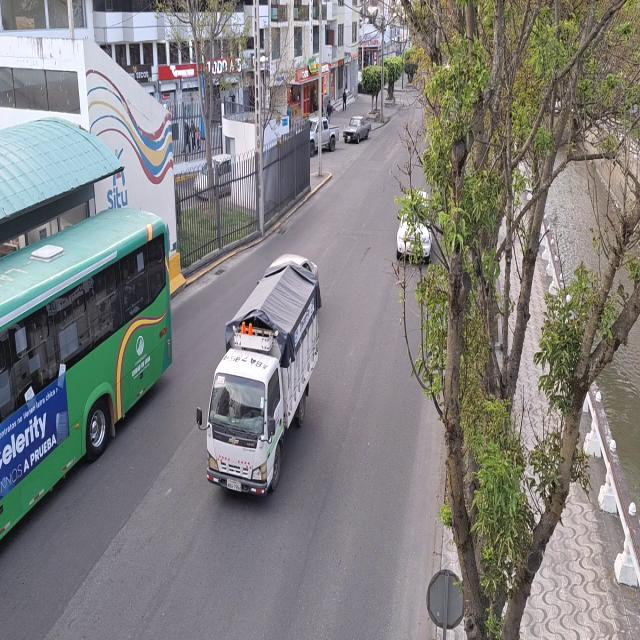BUS: (0, 217, 167, 548)
CMT: (309, 118, 339, 151), (343, 114, 372, 144)
TRUCK: (210, 275, 322, 503)
